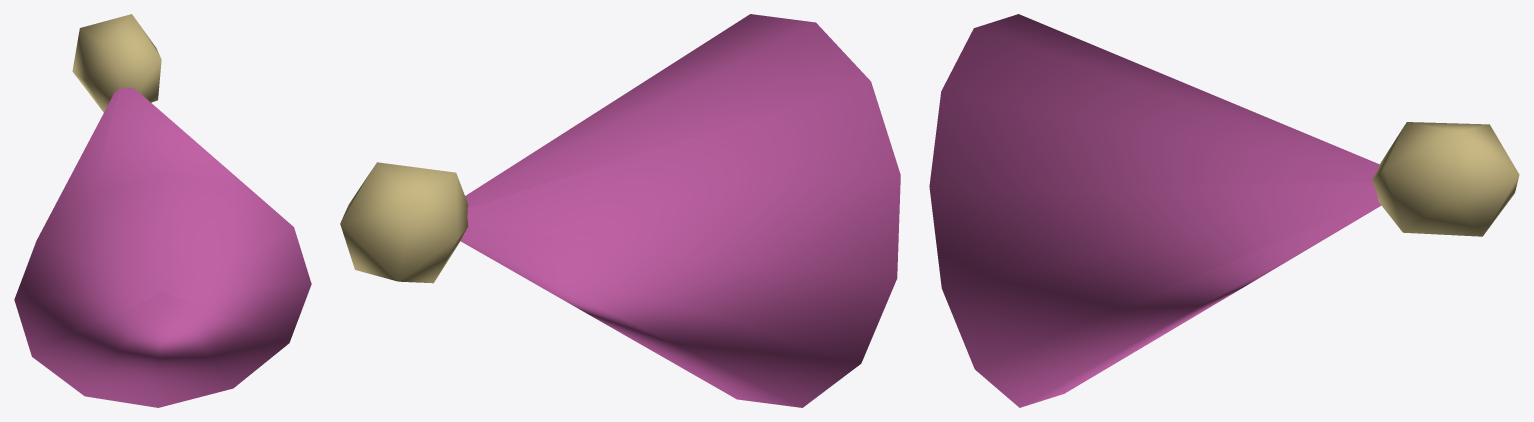
Rendered from party_hat.glb.
3 renders of one model, left to right at view 1: azimuth 30°, elevation 25°; view 2: azimuth 150°, elevation 25°; view 3: azimuth 270°, elevation 25°, orthographic. The views are drawn at different scales.
Visible parts, largest first — view 1: party_hat; view 2: party_hat; view 3: party_hat.
Part boxes in pixels (bbox=[...]): party_hat: bbox=[14, 14, 311, 407]; party_hat: bbox=[340, 14, 900, 407]; party_hat: bbox=[929, 14, 1519, 407].
Bounding box in the file's own units: 0.1597 × 0.1453 × 0.2225.
